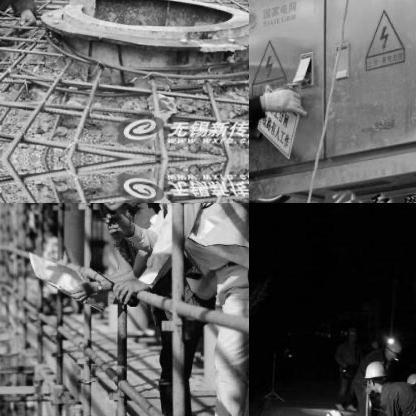Helmet: (362, 358, 386, 394), (85, 203, 130, 218), (382, 336, 402, 362), (320, 407, 349, 415), (404, 372, 415, 392)
